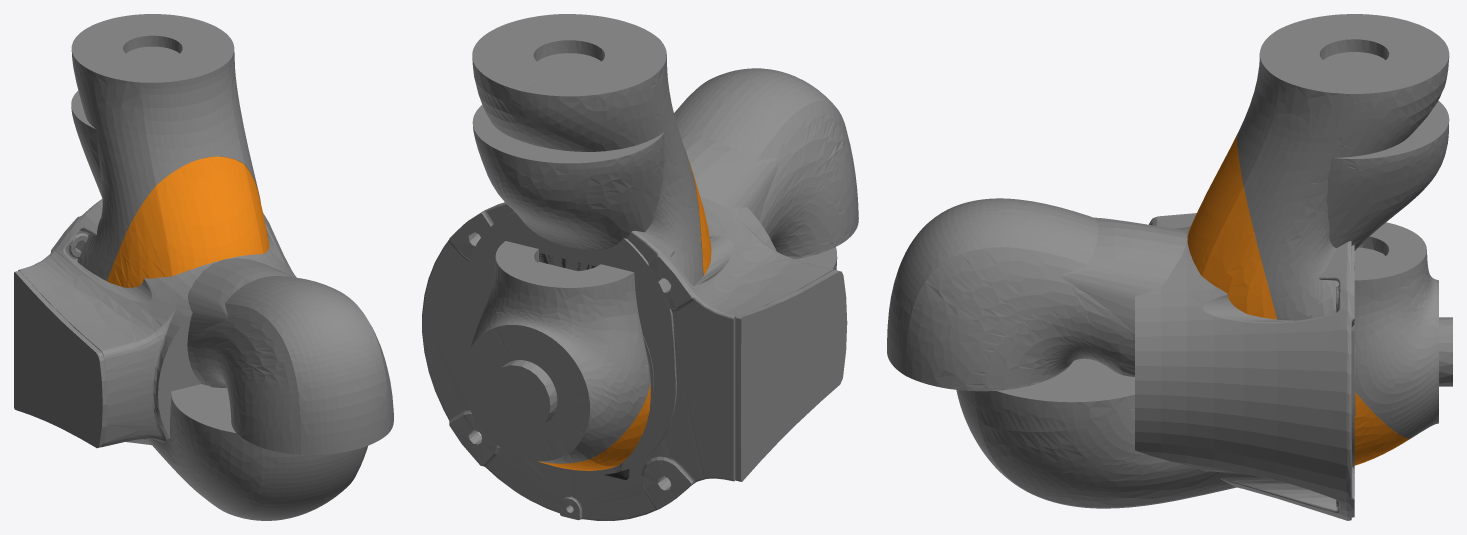
The model's file is arm.glb.
The picture shows the model from 3 angles, left to right: view 1: azimuth 30°, elevation 25°; view 2: azimuth 150°, elevation 25°; view 3: azimuth 270°, elevation 25°; orthographic projection. The views are drawn at different scales.
Visible parts, largest first — view 1: b3, b1, b4, b2, b6, b5; view 2: b1, b3, b7, b4, b5, b6, b2; view 3: b3, b1, b4, b2, b7, b5, b6.
Part boxes in pixels (<box>): b3: <box>71,14,269,287</box>; b1: <box>14,198,295,448</box>; b4: <box>187,276,393,455</box>; b2: <box>146,384,367,520</box>; b6: <box>188,258,296,336</box>; b5: <box>71,91,102,198</box>; b1: <box>422,196,847,520</box>; b3: <box>463,14,711,474</box>; b7: <box>463,241,650,470</box>; b4: <box>674,68,858,258</box>; b5: <box>472,105,664,407</box>; b6: <box>646,134,779,387</box>; b2: <box>464,247,837,475</box>; b3: <box>1187,14,1449,471</box>; b1: <box>1135,213,1354,520</box>; b4: <box>887,198,1134,391</box>; b2: <box>956,358,1236,508</box>; b7: <box>1354,222,1452,465</box>; b5: <box>1326,100,1449,415</box>; b6: <box>1060,217,1187,339</box>.
Bounding box in the file's own units: 0.2573 × 0.3576 × 0.4064.
